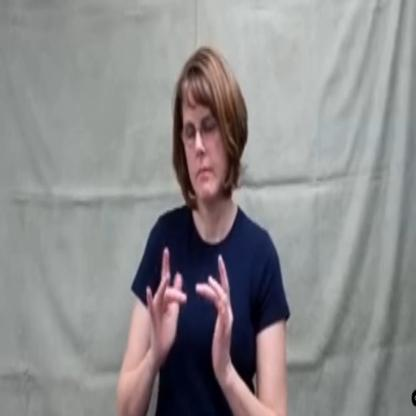Internet: (147, 238, 234, 380)
